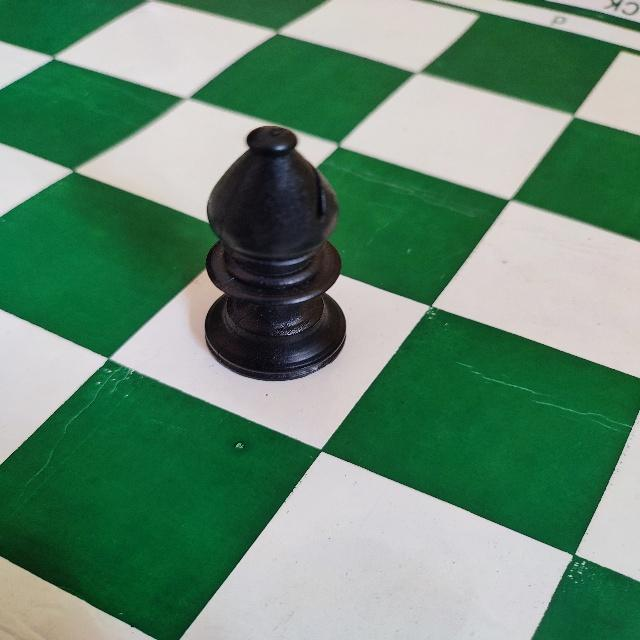Bishop: (201, 118, 350, 386)
